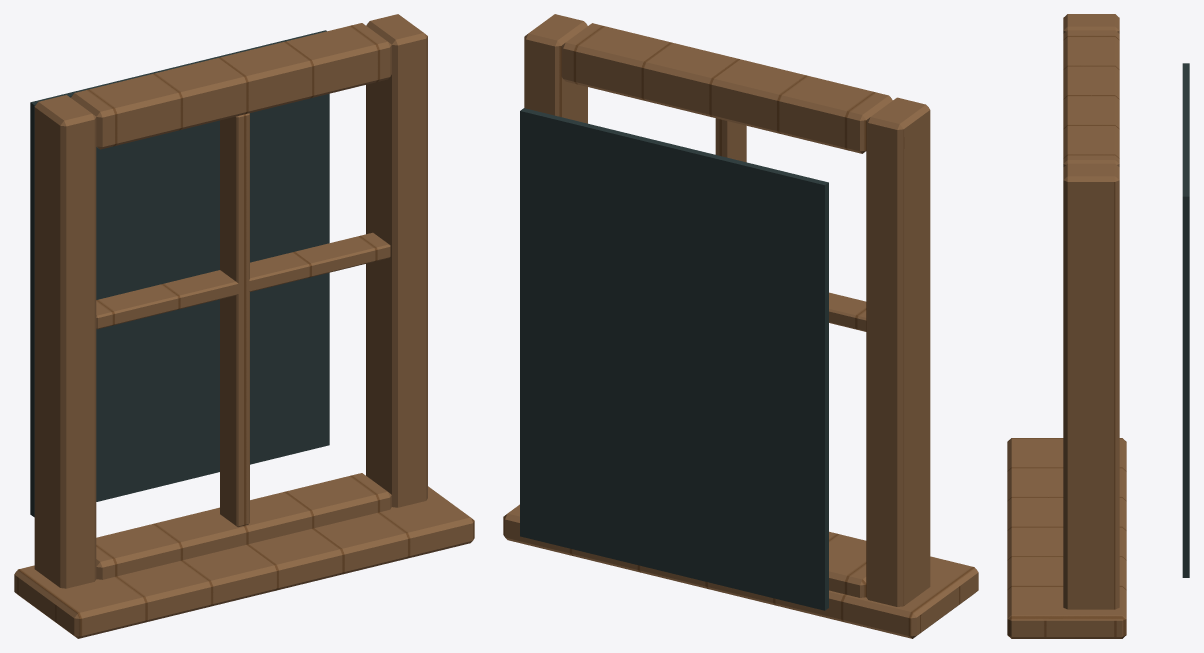
Rendered from window-basic.glb.
The picture shows the model from 3 angles, left to right: view 1: azimuth 30°, elevation 25°; view 2: azimuth 150°, elevation 25°; view 3: azimuth 270°, elevation 25°; orthographic projection. The views are drawn at different scales.
Parts seen in each view (by area): view 1: SM_Window_Recess, SM_Window_Jamb, SM_Window_Jamb.001, SM_Window_Sill, SM_Window_Rail.001, SM_Window_Rail, SM_Window_Mullion, SM_Window_Crossbar; view 2: SM_Window_Recess, SM_Window_Jamb, SM_Window_Rail.001, SM_Window_Sill, SM_Window_Jamb.001, SM_Window_Rail, SM_Window_Mullion, SM_Window_Crossbar; view 3: SM_Window_Jamb.001, SM_Window_Sill, SM_Window_Rail.001, SM_Window_Recess, SM_Window_Jamb.
Part boxes in pixels (box(x1,y1,x2,y2)): SM_Window_Recess: box(30, 30, 329, 517); SM_Window_Jamb: box(34, 95, 96, 588); SM_Window_Jamb.001: box(366, 14, 427, 507); SM_Window_Sill: box(14, 486, 474, 638); SM_Window_Rail.001: box(71, 23, 391, 149); SM_Window_Rail: box(96, 473, 391, 579); SM_Window_Mullion: box(220, 113, 249, 527); SM_Window_Crossbar: box(96, 232, 390, 329); SM_Window_Recess: box(520, 108, 828, 610); SM_Window_Jamb: box(866, 97, 930, 606); SM_Window_Rail.001: box(561, 23, 892, 153); SM_Window_Sill: box(503, 504, 978, 638); SM_Window_Jamb.001: box(524, 14, 587, 123); SM_Window_Rail: box(829, 545, 866, 597); SM_Window_Mullion: box(715, 118, 746, 162); SM_Window_Crossbar: box(829, 292, 866, 331); SM_Window_Jamb.001: box(1063, 163, 1119, 609); SM_Window_Sill: box(1007, 438, 1126, 638); SM_Window_Rail.001: box(1063, 30, 1119, 166); SM_Window_Recess: box(1182, 63, 1189, 577); SM_Window_Jamb: box(1063, 14, 1119, 33).
Size of the model in its own units: 1.22 by 1.43 by 0.52.
2 materials, 1 textured.
